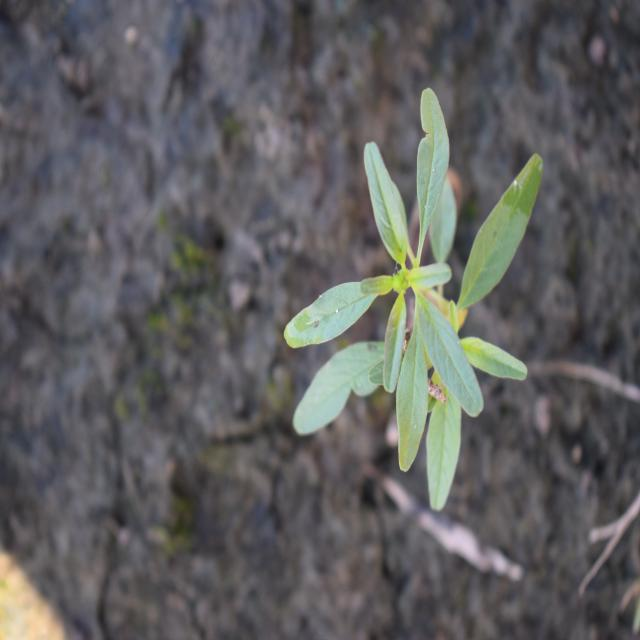Waterhemp: (282, 85, 546, 515)
